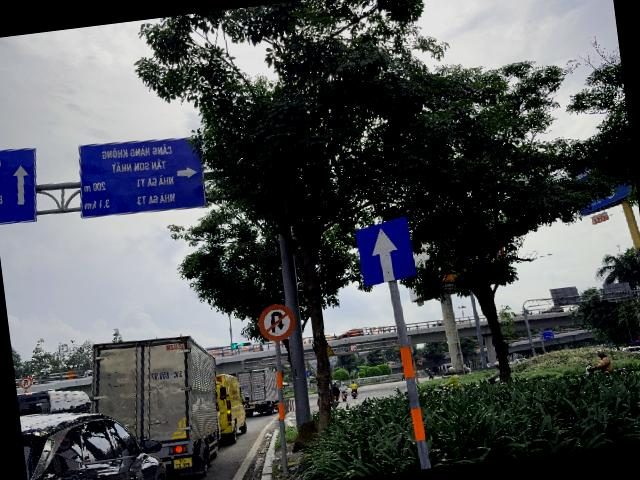cam-quay-dau-xe: (255, 302, 298, 343)
duong-mot-chieu: (354, 216, 417, 287)
